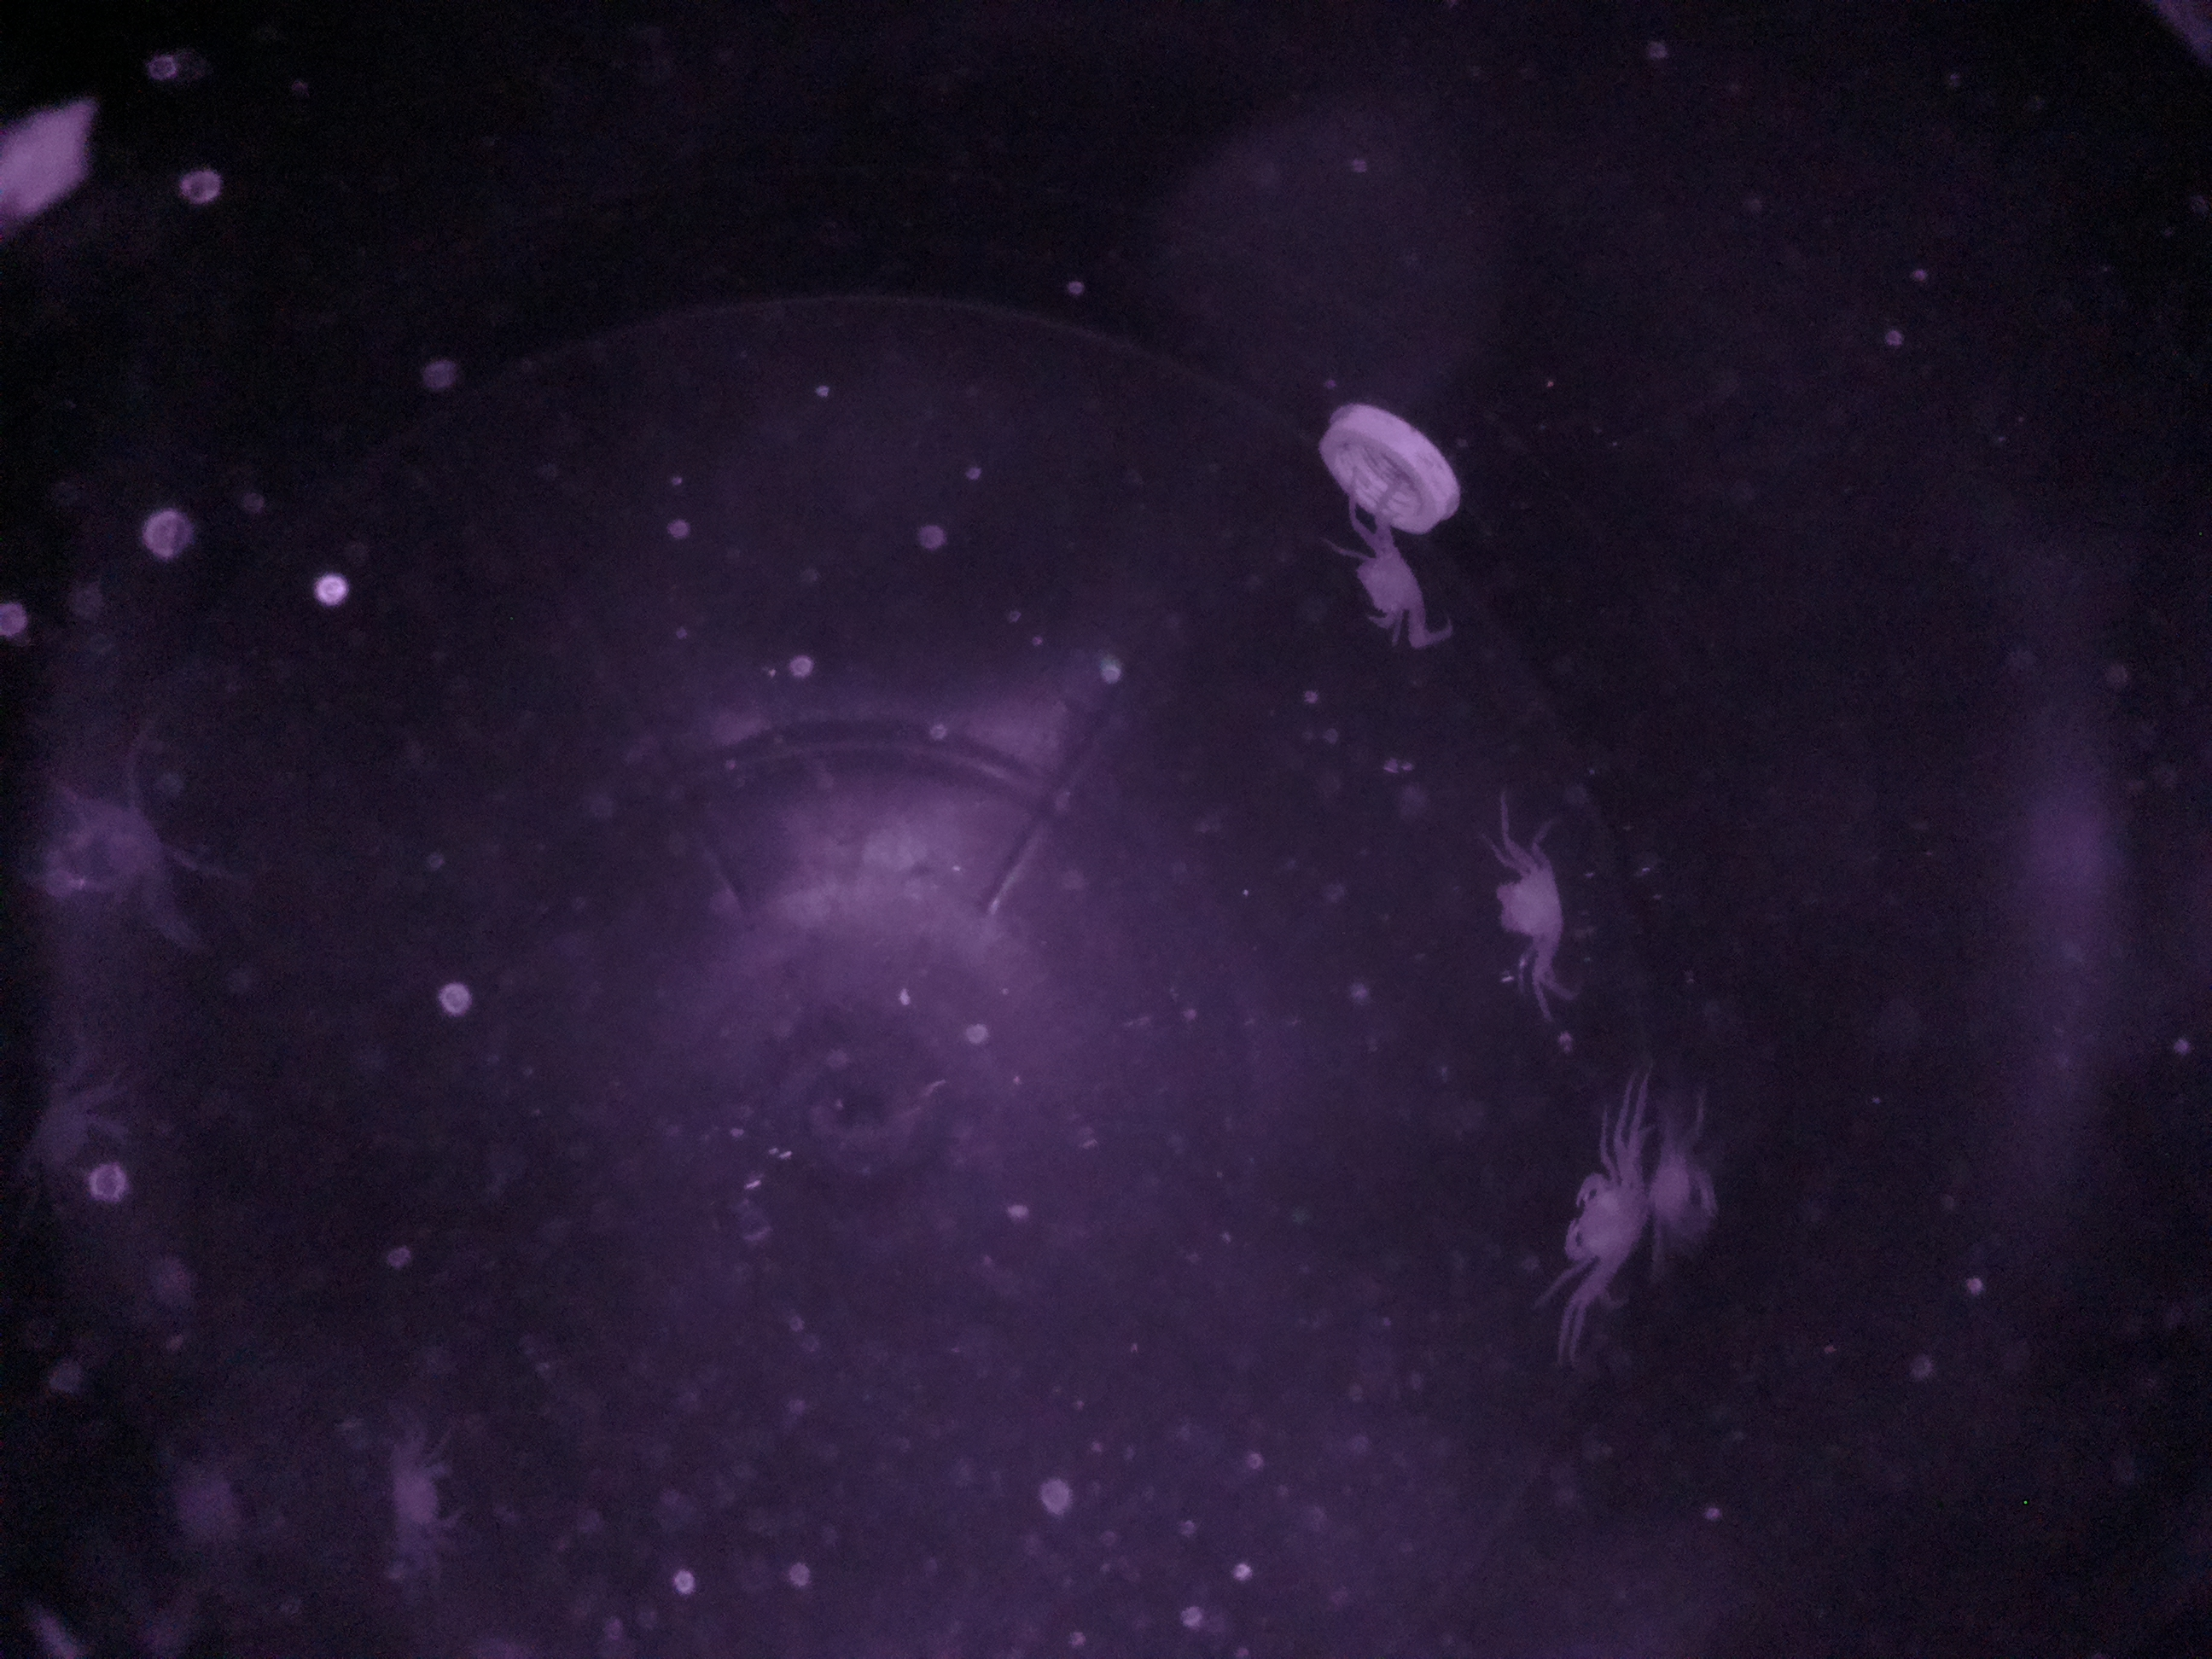Crab: (1538, 1138, 1670, 1312), (1329, 516, 1442, 660), (1482, 835, 1587, 978)
